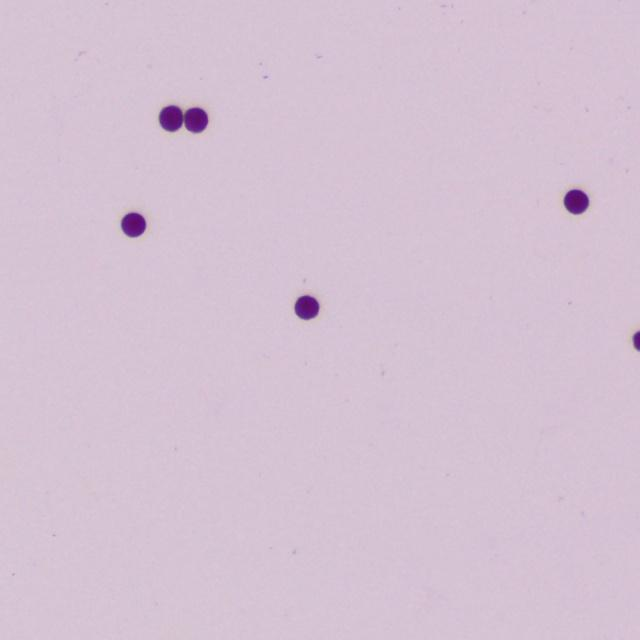viable: (184, 107, 208, 132), (159, 105, 182, 131), (121, 212, 145, 236), (295, 295, 319, 319), (565, 190, 588, 213), (633, 332, 639, 350)
